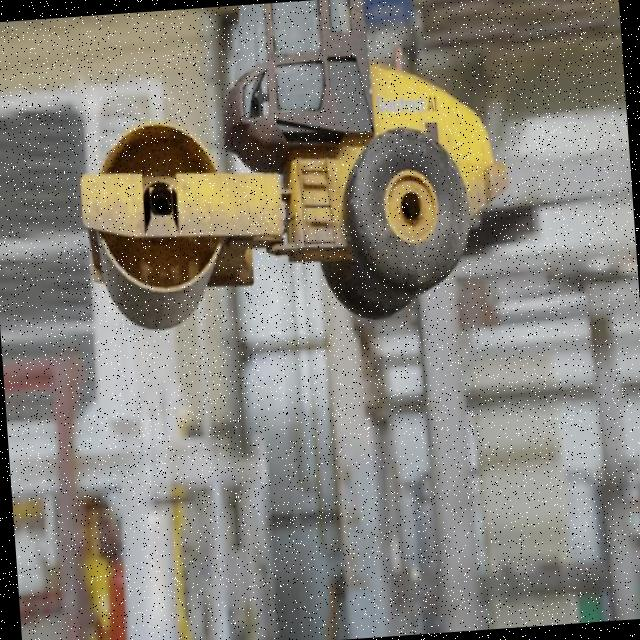Roller: (66, 0, 517, 340)
